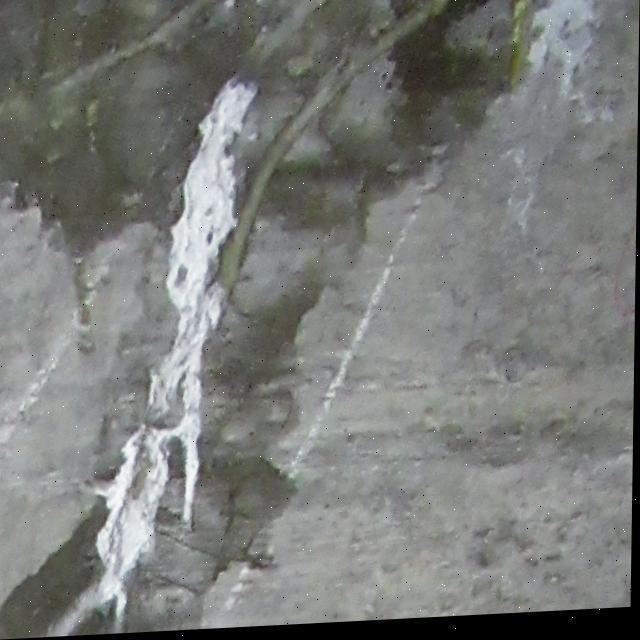D01: (158, 78, 261, 417), (66, 418, 205, 633)
